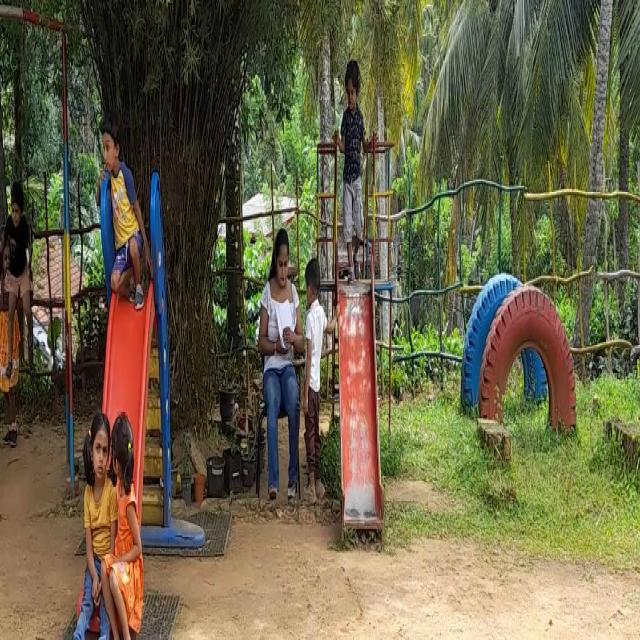adult: (254, 214, 304, 498)
child: (68, 410, 116, 640), (107, 402, 149, 640), (98, 99, 146, 290), (300, 255, 331, 511), (0, 180, 37, 376), (339, 53, 370, 267)
